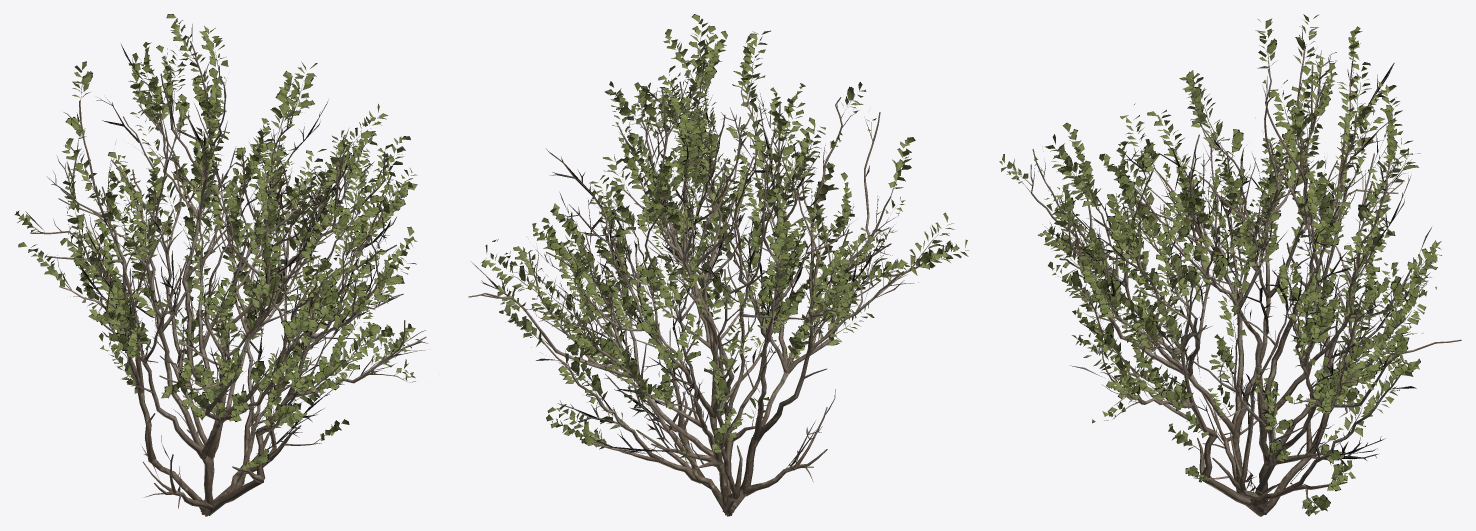
The model's file is ph-searsia-lucida.glb.
The picture shows the model from 3 angles, left to right: view 1: azimuth 30°, elevation 25°; view 2: azimuth 150°, elevation 25°; view 3: azimuth 270°, elevation 25°; orthographic projection. The views are drawn at different scales.
Visible parts, largest first — view 1: searsia_lucida_a_LOD0; view 2: searsia_lucida_a_LOD0; view 3: searsia_lucida_a_LOD0.
Boxes of the visible parts, x1,y1,x2,y2 form: searsia_lucida_a_LOD0: [15, 14, 427, 516]; searsia_lucida_a_LOD0: [468, 14, 968, 516]; searsia_lucida_a_LOD0: [999, 14, 1461, 516].
Size of the model in its own units: 1.81 by 2.33 by 1.95.
Materials: 2 (2 with a texture image).
